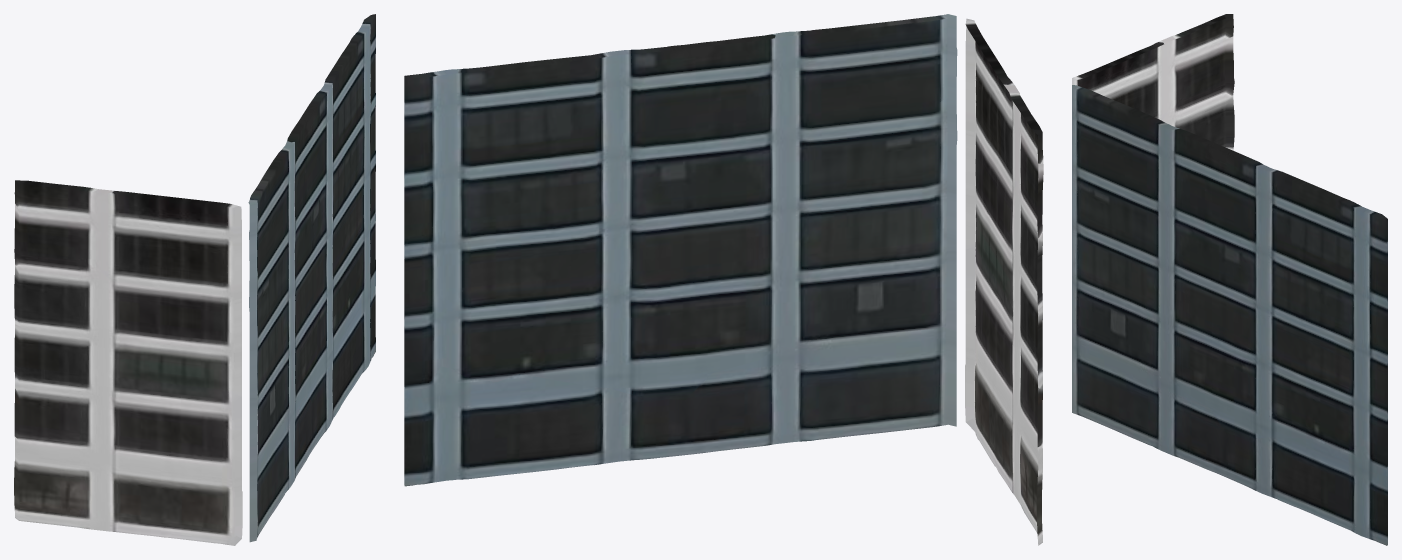
The model's file is z20-167790-405228-h1-yup-uvflip-v3-world.glb.
3 views of the same model, side by side, from view 1: azimuth 30°, elevation 25°; view 2: azimuth 150°, elevation 25°; view 3: azimuth 270°, elevation 25° (orthographic). The views are drawn at different scales.
Bounding box in the file's own units: 30.16 × 22.08 × 19.44.
1 material, 1 textured.
